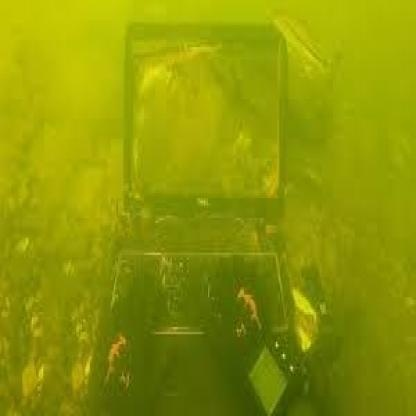electronics: (110, 27, 304, 416)
